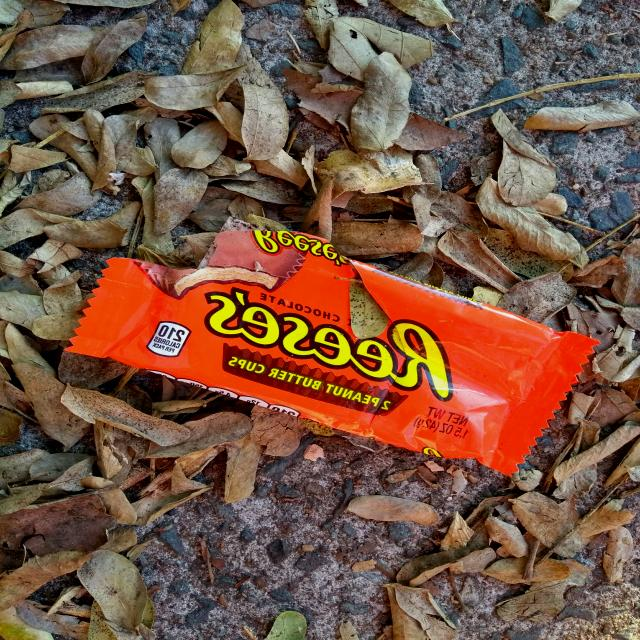Other plastic: (64, 230, 601, 476)
